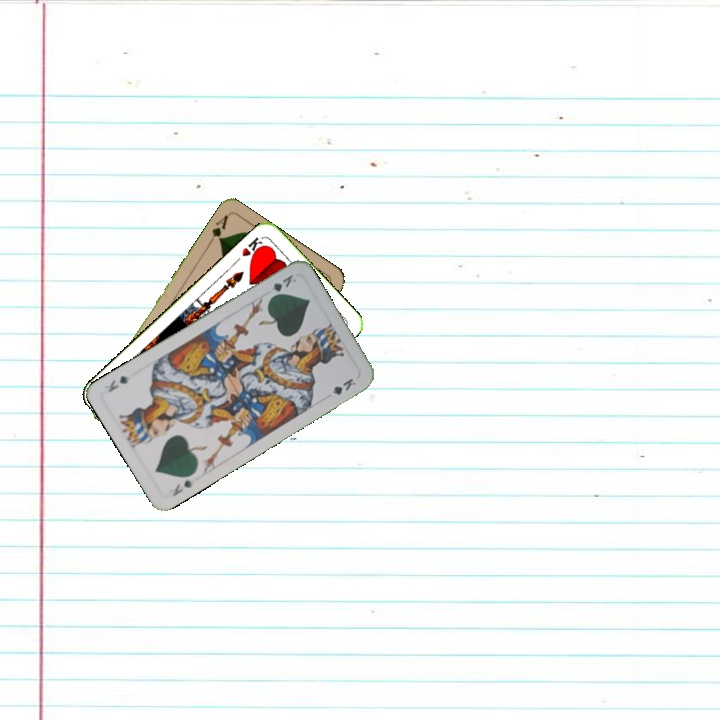GA: (204, 211, 231, 248)
GK: (265, 270, 299, 301), (169, 475, 197, 499)
HK: (238, 233, 268, 261)
